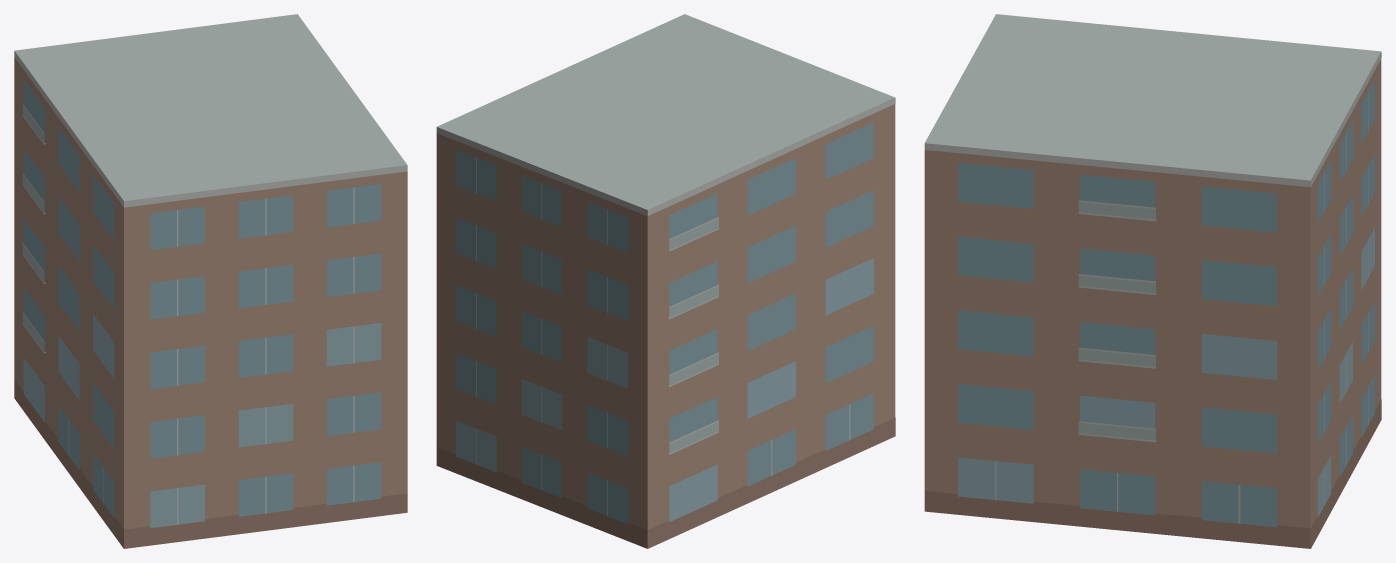
The model's file is survey-upis-32924406.glb.
3 renders of one model, left to right at view 1: azimuth 30°, elevation 25°; view 2: azimuth 150°, elevation 25°; view 3: azimuth 270°, elevation 25°, orthographic. The views are drawn at different scales.
Parts seen in each view (by area): view 1: survey-upis-32924406.tmp; view 2: survey-upis-32924406.tmp; view 3: survey-upis-32924406.tmp.
Part boxes in pixels (left/top/right/bottom): survey-upis-32924406.tmp: left=14, top=14, right=407, bottom=548; survey-upis-32924406.tmp: left=436, top=14, right=895, bottom=548; survey-upis-32924406.tmp: left=924, top=14, right=1381, bottom=548.
Size of the model in its own units: 13.01 by 13.4 by 15.08.
